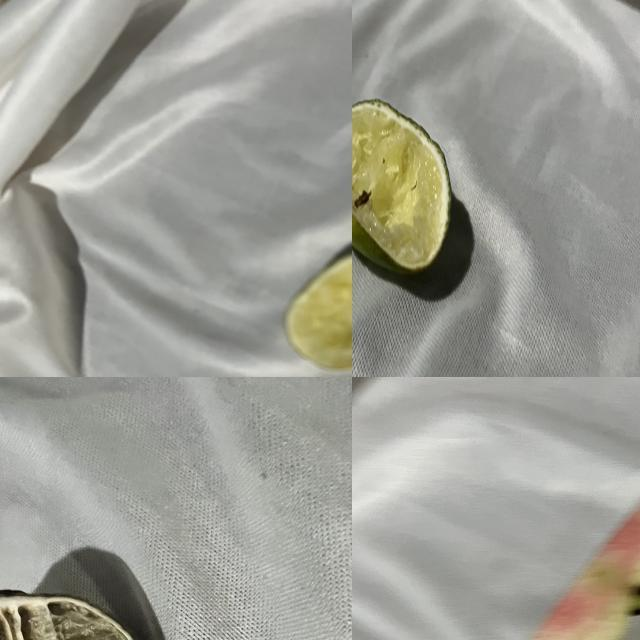General: (352, 376, 639, 638), (1, 587, 140, 639)
Infectious: (351, 97, 453, 274)
